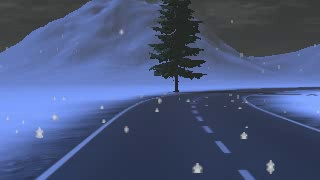Lane: (39, 87, 319, 179)
